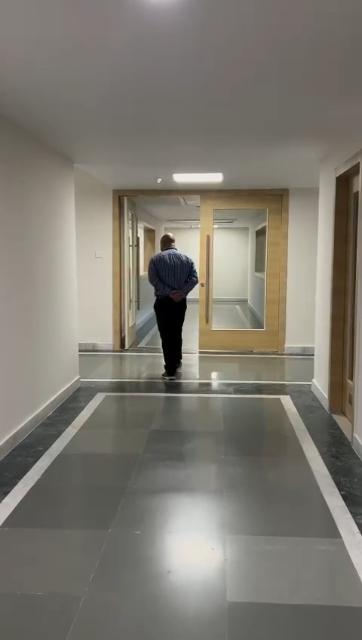door: (198, 190, 286, 350), (332, 173, 362, 415), (114, 192, 138, 350)
floor: (0, 353, 362, 640)
moving-obj: (146, 231, 196, 387)
wall: (0, 118, 113, 448)
